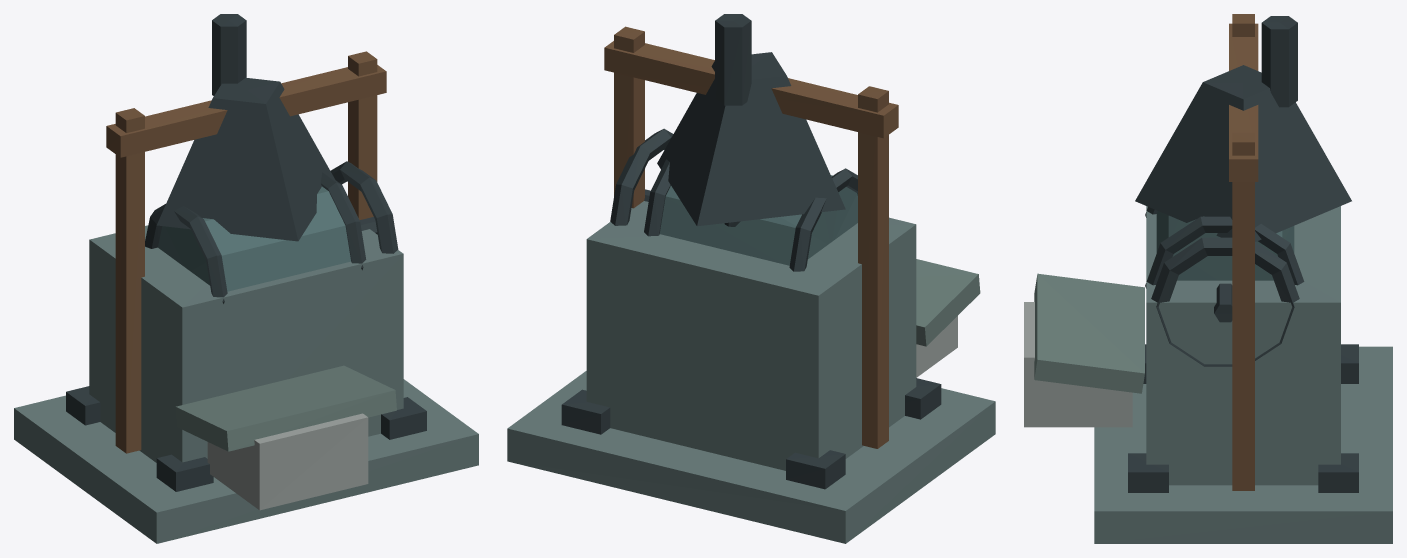
Rendered from Spice-Mill.glb.
3 views of the same model, side by side, from view 1: azimuth 30°, elevation 25°; view 2: azimuth 150°, elevation 25°; view 3: azimuth 270°, elevation 25° (orthographic). The views are drawn at different scales.
Visible parts, largest first — view 1: wind-pump-static-spice-mill-grounded-base, wind-pump-static-spice-mill-dark-iron, wind-pump-static-spice-mill-timber-frame, wind-pump-static-spice-mill-fine-mesh-tray, wind-pump-static-spice-mill-galvanized-panels, wind-pump-static-spice-mill-teal-burr-housing; view 2: wind-pump-static-spice-mill-grounded-base, wind-pump-static-spice-mill-dark-iron, wind-pump-static-spice-mill-timber-frame, wind-pump-static-spice-mill-teal-burr-housing, wind-pump-static-spice-mill-fine-mesh-tray, wind-pump-static-spice-mill-galvanized-panels; view 3: wind-pump-static-spice-mill-grounded-base, wind-pump-static-spice-mill-dark-iron, wind-pump-static-spice-mill-fine-mesh-tray, wind-pump-static-spice-mill-timber-frame, wind-pump-static-spice-mill-galvanized-panels, wind-pump-static-spice-mill-teal-burr-housing.
Part boxes in pixels (x1,y1,x2,y2): wind-pump-static-spice-mill-grounded-base: [14, 225, 478, 543]; wind-pump-static-spice-mill-dark-iron: [66, 14, 426, 491]; wind-pump-static-spice-mill-timber-frame: [106, 51, 386, 453]; wind-pump-static-spice-mill-fine-mesh-tray: [175, 365, 396, 451]; wind-pump-static-spice-mill-galvanized-panels: [207, 413, 368, 510]; wind-pump-static-spice-mill-teal-burr-housing: [158, 186, 350, 291]; wind-pump-static-spice-mill-grounded-base: [507, 201, 995, 543]; wind-pump-static-spice-mill-dark-iron: [561, 14, 941, 489]; wind-pump-static-spice-mill-timber-frame: [604, 26, 898, 448]; wind-pump-static-spice-mill-teal-burr-housing: [659, 175, 857, 265]; wind-pump-static-spice-mill-fine-mesh-tray: [916, 259, 980, 346]; wind-pump-static-spice-mill-galvanized-panels: [916, 316, 957, 377]; wind-pump-static-spice-mill-grounded-base: [1094, 206, 1392, 543]; wind-pump-static-spice-mill-dark-iron: [1128, 16, 1358, 492]; wind-pump-static-spice-mill-fine-mesh-tray: [1034, 273, 1144, 393]; wind-pump-static-spice-mill-timber-frame: [1229, 14, 1258, 490]; wind-pump-static-spice-mill-galvanized-panels: [1024, 302, 1132, 427]; wind-pump-static-spice-mill-teal-burr-housing: [1156, 211, 1294, 280].
Size of the model in its own units: 1.72 by 2.14 by 1.63.
